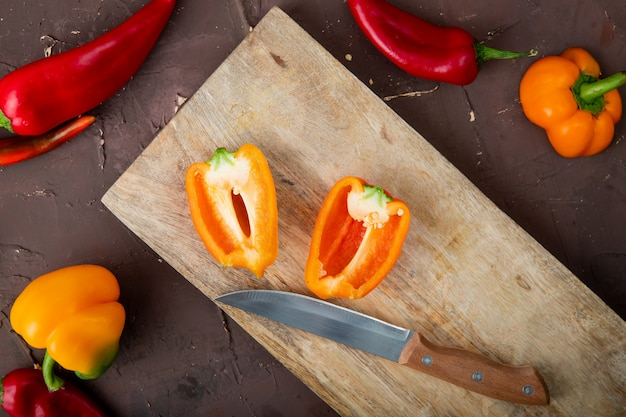knife: (213, 287, 415, 365)
